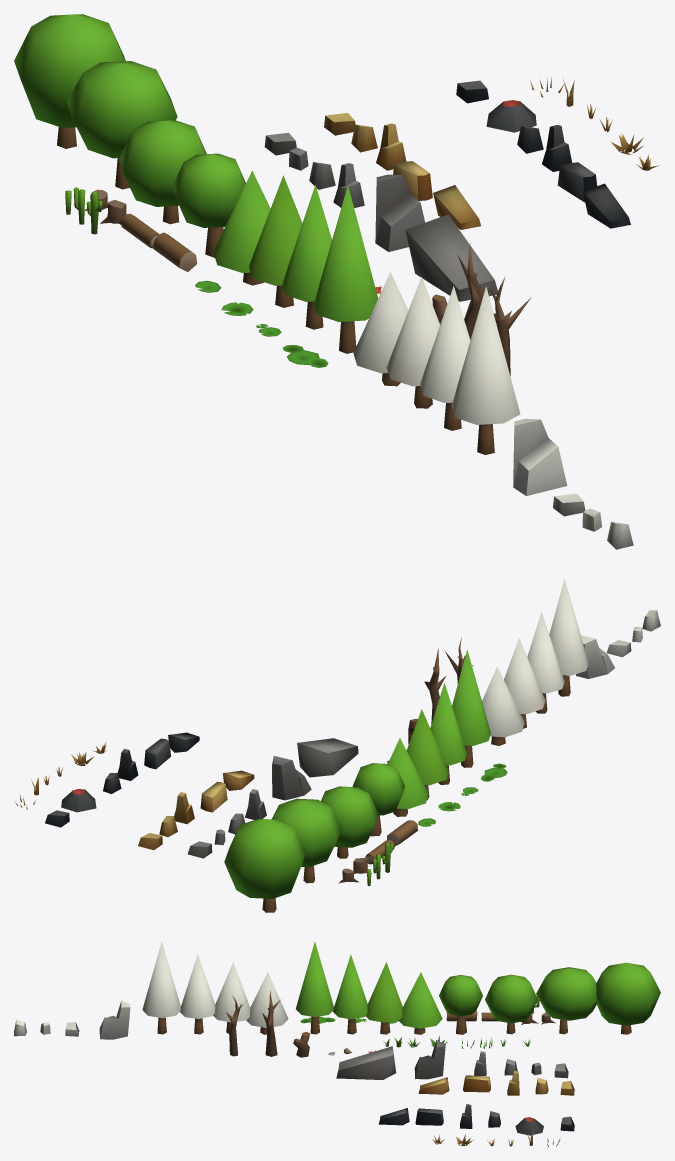
The model's file is Props_LOD.FBX.
3 views of the same model, one above another, from view 1: azimuth 30°, elevation 25°; view 2: azimuth 150°, elevation 25°; view 3: azimuth 270°, elevation 25° (orthographic). The views are drawn at different scales.
Visible parts, largest first — view 1: Tree04, Tree03, TreeSnow04, Tree08, Tree02, Tree01, Rock01, TreeSnow03, Tree07, Tree06, TreeSnow02, Tree05 (+14 smaller); view 2: Tree04, Tree03, Tree02, TreeSnow04, Tree08, Tree01, TreeSnow01, Rock01, TreeSnow02, Tree06, TreeSnow03, Tree07 (+8 smaller); view 3: Tree04, Tree03, Tree02, TreeSnow04, Tree08, Tree01, Tree05, Tree06, TreeSnow03, Tree07, Rock01, TreeSnow02 (+10 smaller).
Boxes of the visible parts, <box> form: Tree04: <box>14,14,125,148</box>; Tree03: <box>66,61,177,189</box>; TreeSnow04: <box>451,286,520,454</box>; Tree08: <box>314,186,378,353</box>; Tree02: <box>119,120,206,224</box>; Tree01: <box>172,153,245,257</box>; Rock01: <box>405,214,497,301</box>; TreeSnow03: <box>420,286,470,430</box>; Tree07: <box>282,184,331,329</box>; Tree06: <box>248,175,302,307</box>; TreeSnow02: <box>386,276,439,408</box>; Tree05: <box>213,170,270,285</box>; Tree04: <box>224,819,306,912</box>; Tree03: <box>272,798,341,883</box>; Tree02: <box>321,786,378,858</box>; TreeSnow04: <box>549,578,588,696</box>; Tree08: <box>452,650,490,767</box>; Tree01: <box>352,763,404,836</box>; TreeSnow01: <box>482,667,524,745</box>; Rock01: <box>297,738,358,777</box>; TreeSnow02: <box>504,638,545,728</box>; Tree06: <box>406,709,448,800</box>; TreeSnow03: <box>527,612,564,713</box>; Tree07: <box>430,683,466,784</box>; Tree04: <box>596,962,660,1034</box>; Tree03: <box>536,967,597,1034</box>; Tree02: <box>485,974,537,1034</box>; TreeSnow04: <box>142,941,180,1034</box>; Tree08: <box>296,941,333,1034</box>; Tree01: <box>439,975,482,1034</box>; Tree05: <box>398,972,442,1034</box>; Tree06: <box>366,962,402,1034</box>; TreeSnow03: <box>180,954,215,1034</box>; Tree07: <box>333,954,367,1034</box>; Rock01: <box>336,1046,396,1079</box>; TreeSnow02: <box>213,962,250,1033</box>.
Size of the model in its own units: 1745 by 3503 by 550.
